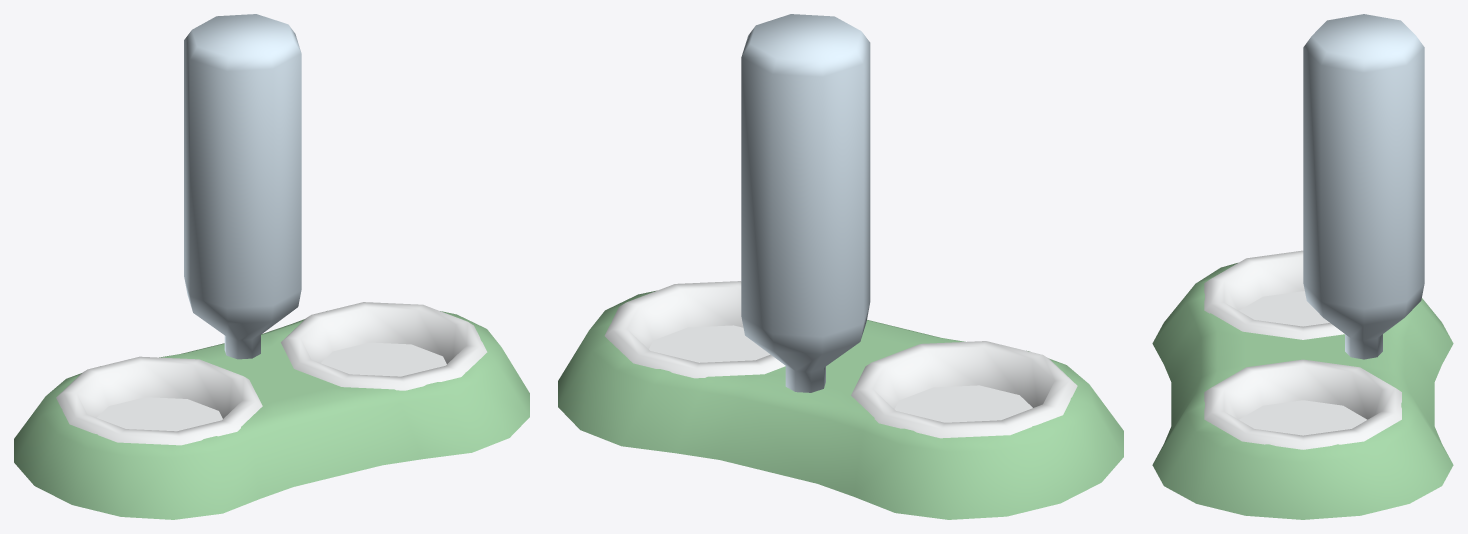
The model's file is M_AHgoupen01.FBX.
3 renders of one model, left to right at view 1: azimuth 30°, elevation 25°; view 2: azimuth 150°, elevation 25°; view 3: azimuth 270°, elevation 25°, orthographic. The views are drawn at different scales.
Parts seen in each view (by area): view 1: M_AHgoupen01_01, M_AHgoupen01_03, M_AHgoupen01_02; view 2: M_AHgoupen01_01, M_AHgoupen01_03, M_AHgoupen01_02; view 3: M_AHgoupen01_01, M_AHgoupen01_03, M_AHgoupen01_02.
Part boxes in pixels (<box>): M_AHgoupen01_01: <box>14,311,529,519</box>; M_AHgoupen01_03: <box>184,14,301,359</box>; M_AHgoupen01_02: <box>56,302,487,445</box>; M_AHgoupen01_01: <box>558,290,1123,519</box>; M_AHgoupen01_03: <box>741,14,870,392</box>; M_AHgoupen01_02: <box>604,281,1077,438</box>; M_AHgoupen01_01: <box>1152,263,1453,519</box>; M_AHgoupen01_03: <box>1303,14,1424,359</box>; M_AHgoupen01_02: <box>1204,250,1401,449</box>.
Size of the model in its own units: 0.8693 by 0.6464 by 0.4784.
